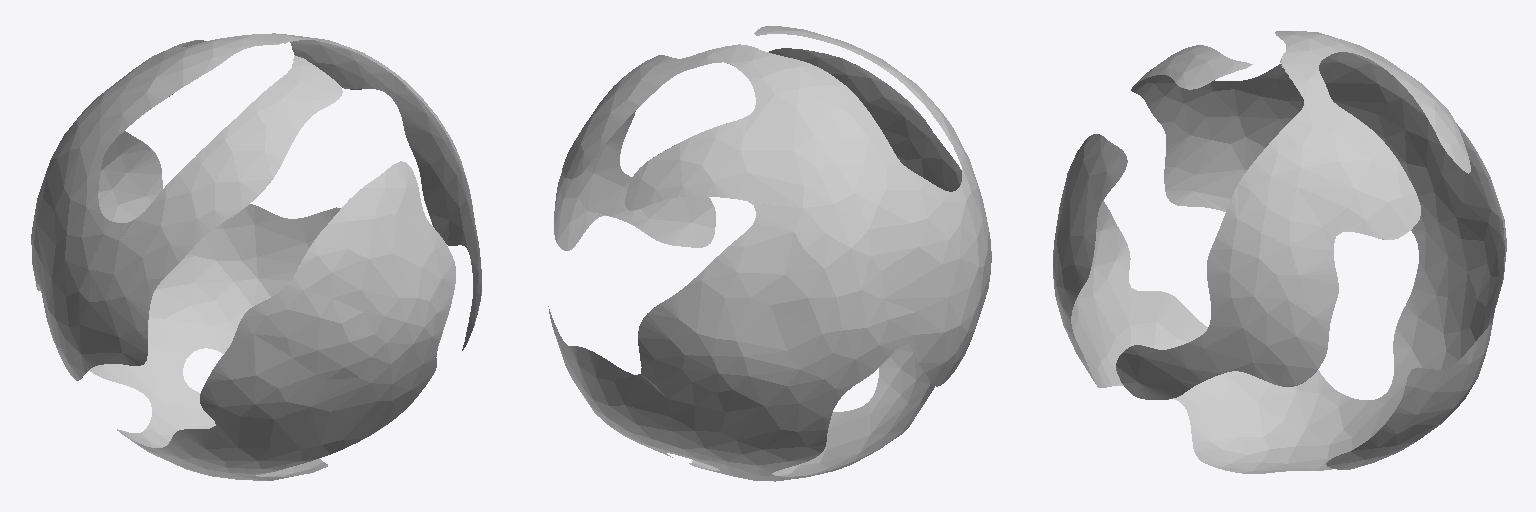
Rendered from planet_clouds_1.obj.
3 views of the same model, side by side, from view 1: azimuth 30°, elevation 25°; view 2: azimuth 150°, elevation 25°; view 3: azimuth 270°, elevation 25° (orthographic).
Size of the model in its own units: 228 by 230 by 228.